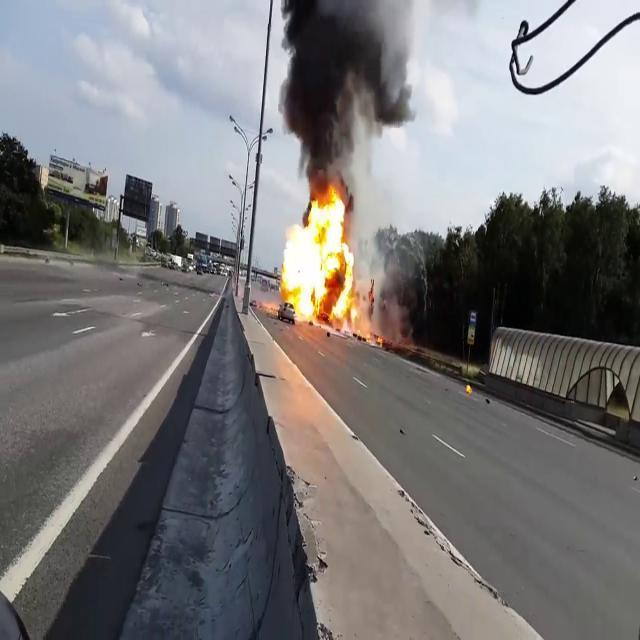Fire: (277, 188, 361, 325)
Smoke: (276, 0, 406, 195)
